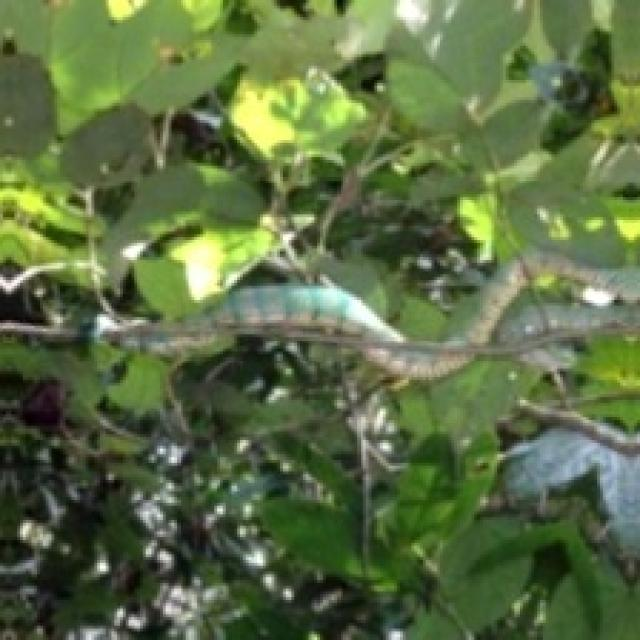north ph temple pitviper: (0, 257, 637, 377)
